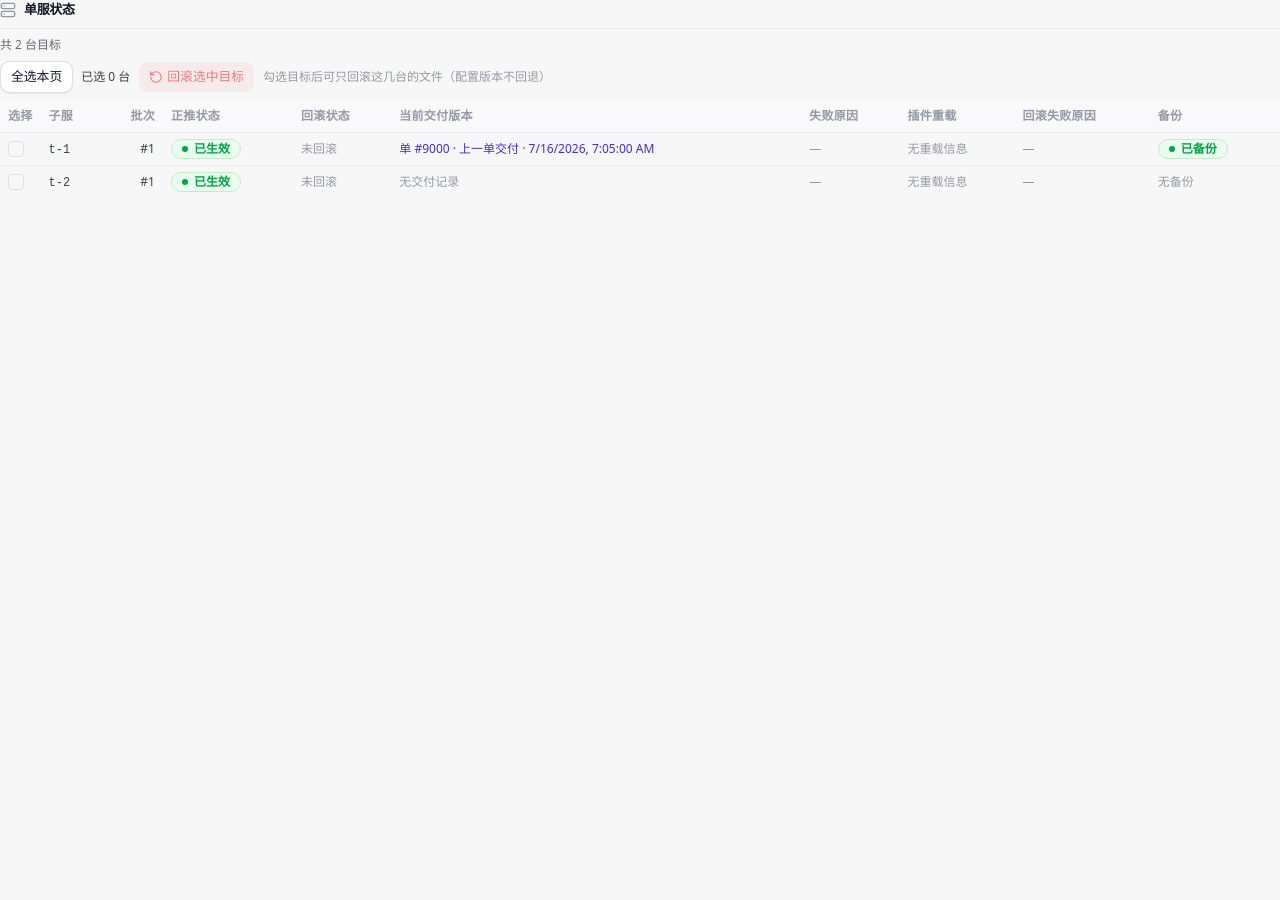
Scenario: 目标级回滚与回滚预检 › FR-270：回滚选中目标提交 serverIds 与幂等键，并明示配置未回退
Check: the column heading "批次" is shown, box [102,100,163,132]
Click the checkbox named "t-1" at point(16, 149), box [8,141,24,157]
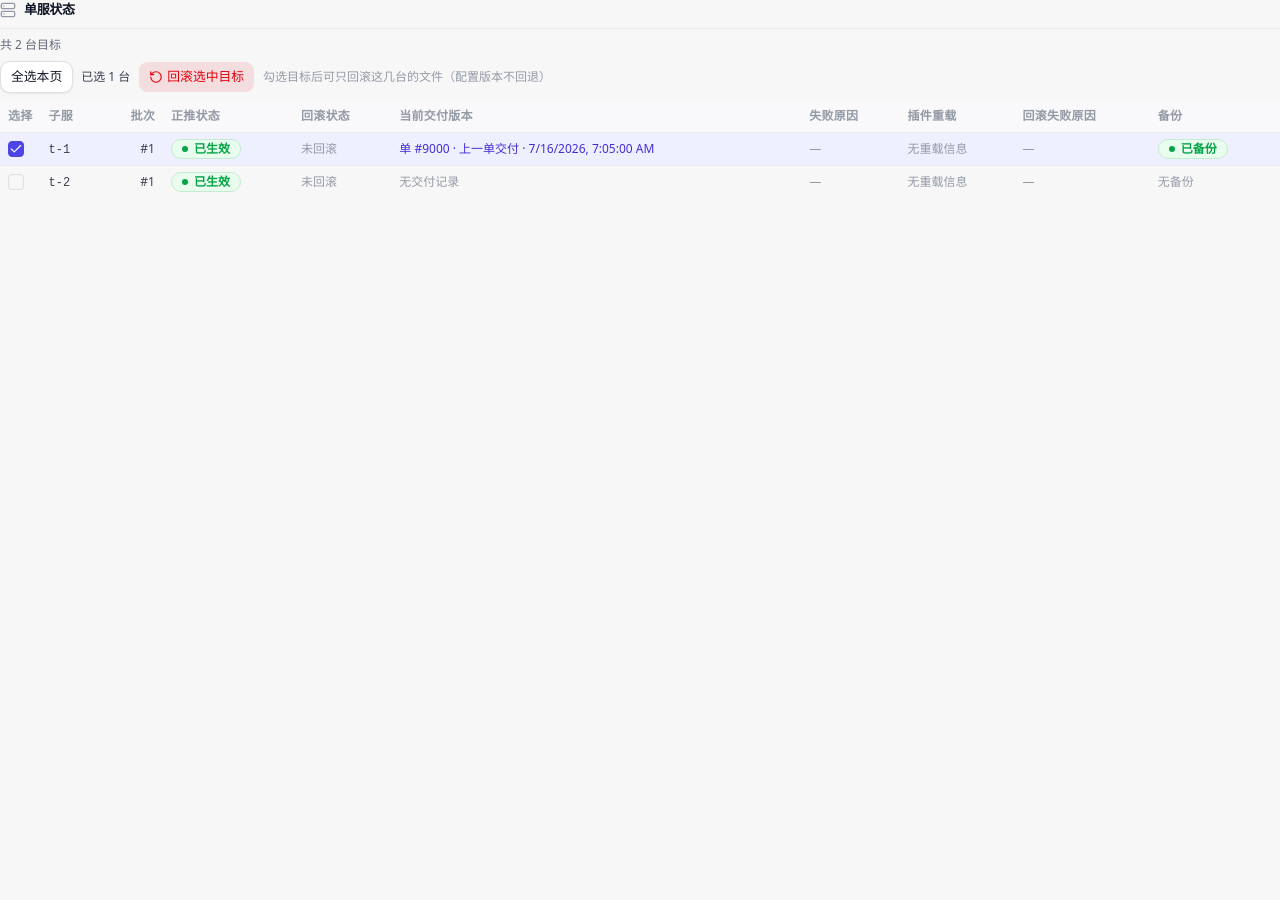
Click the button "回滚选中目标" at point(197, 76), box [138,60,255,92]
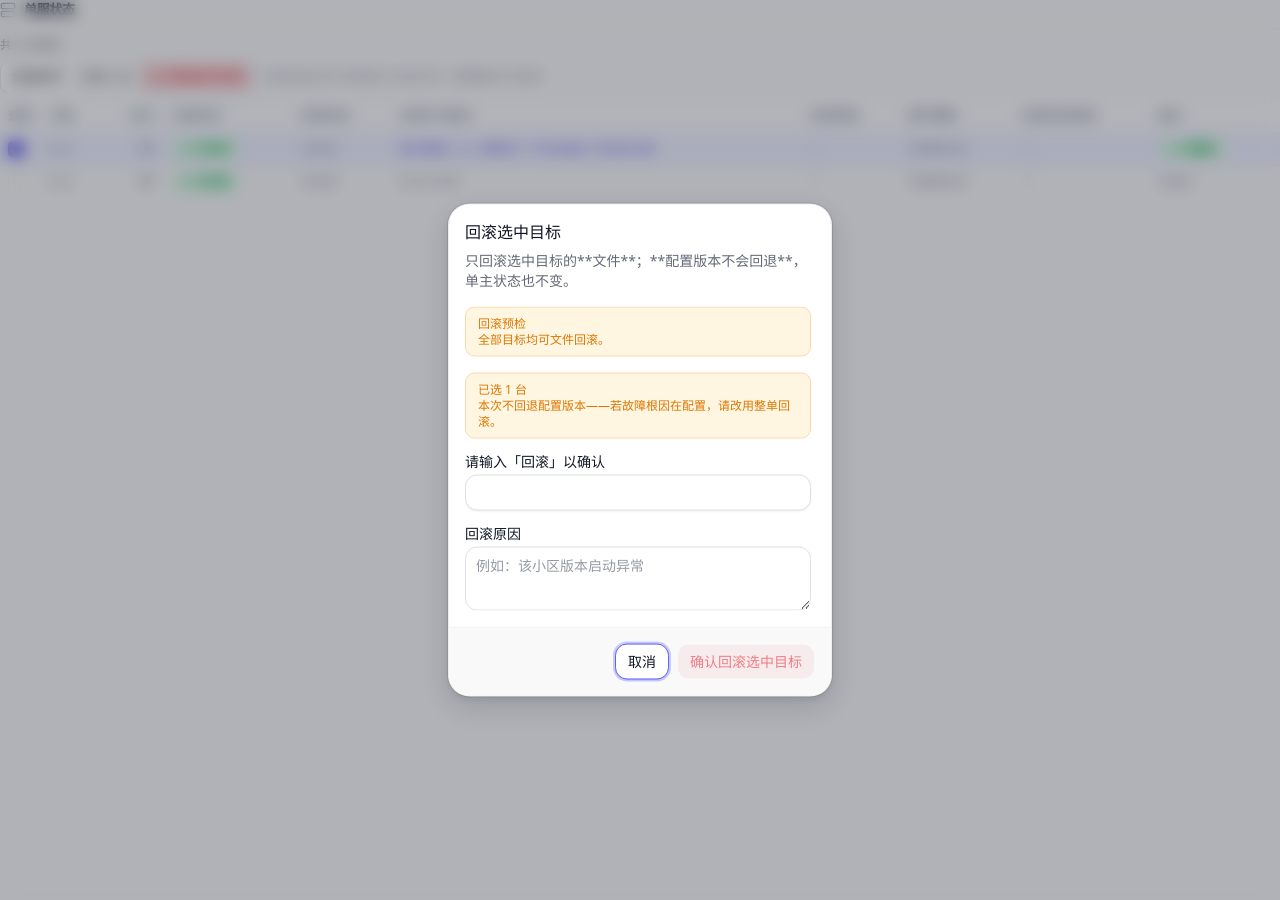
Check: the text "只回滚选中目标的**文件**；**配置版本不会回退**，单主状态也不变。" is shown, box [465,250,815,290]
Type "回滚" into the field labelled "请输入「回滚」以确认" at point(638, 492), box [465,474,811,510]
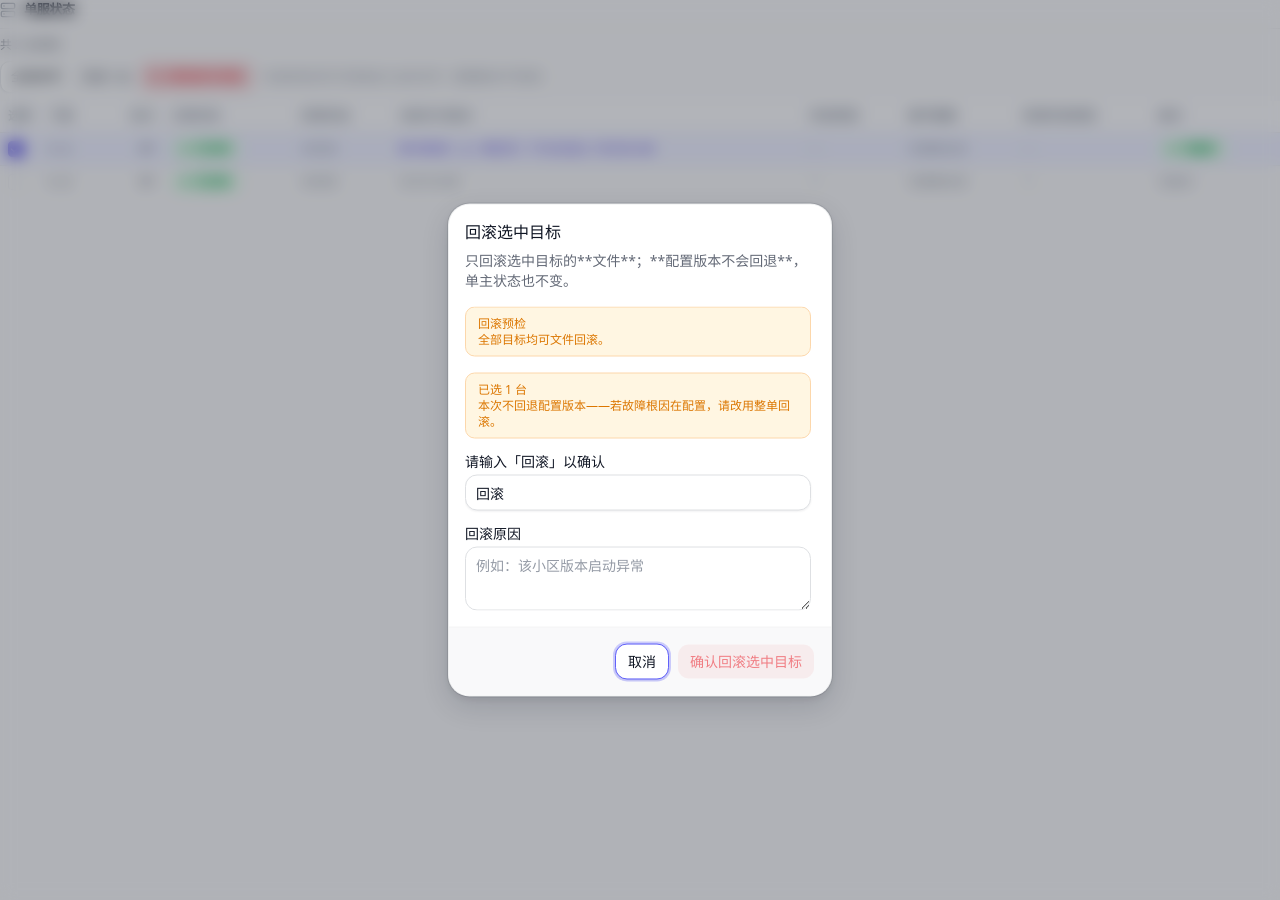
Type "该台版本启动异常" into the text box labelled "回滚原因" at point(638, 578), box [465,546,811,610]
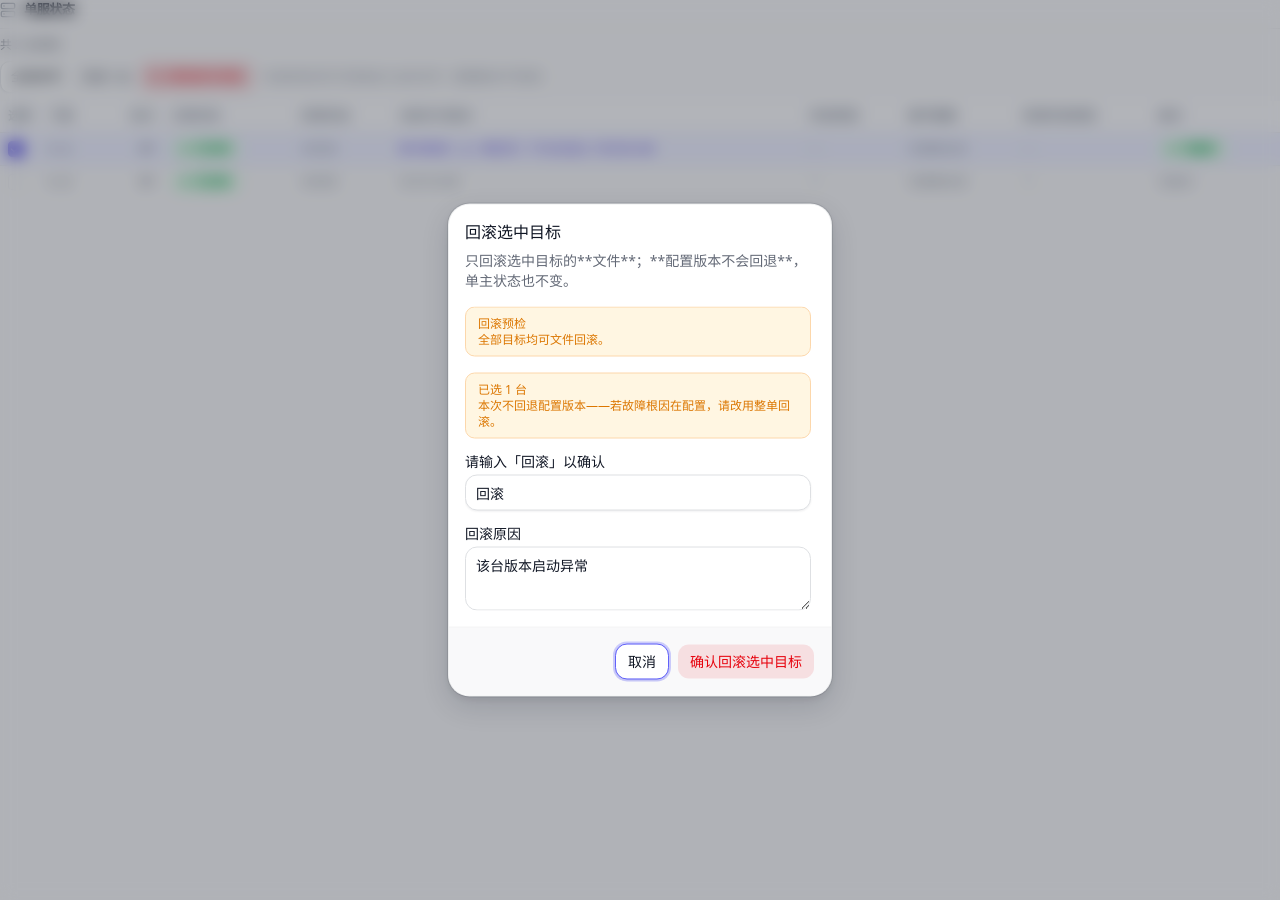
Click the button "确认回滚选中目标" at point(746, 662), box [677,644,815,680]
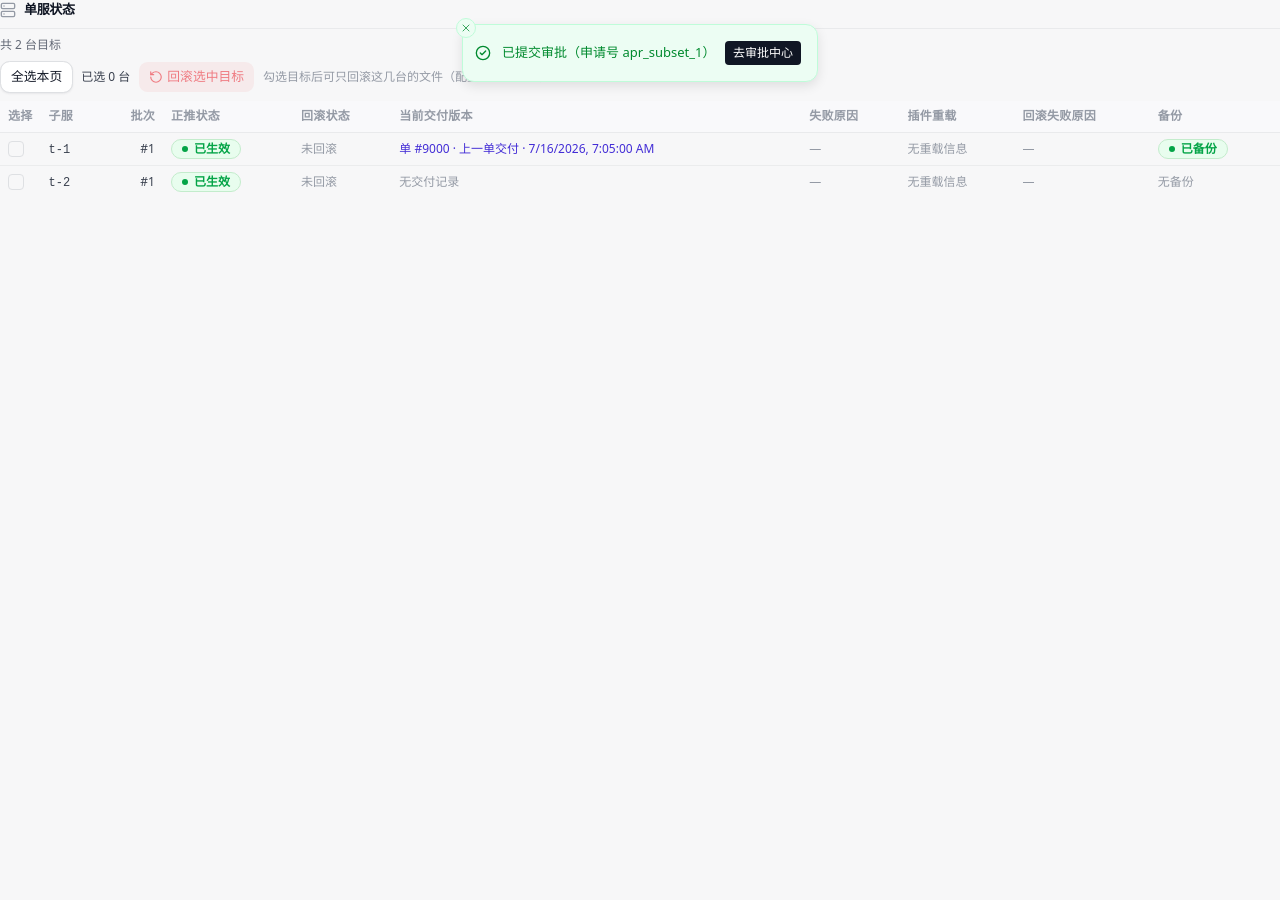
Check: the text "已提交审批（申请号 apr_subset_1）" is shown, box [502,43,716,63]
